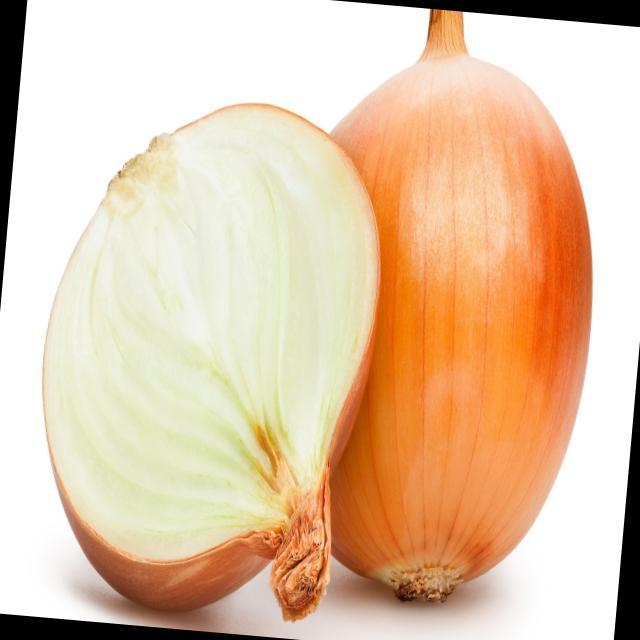ONIONS: (22, 82, 394, 626), (292, 1, 623, 607)
